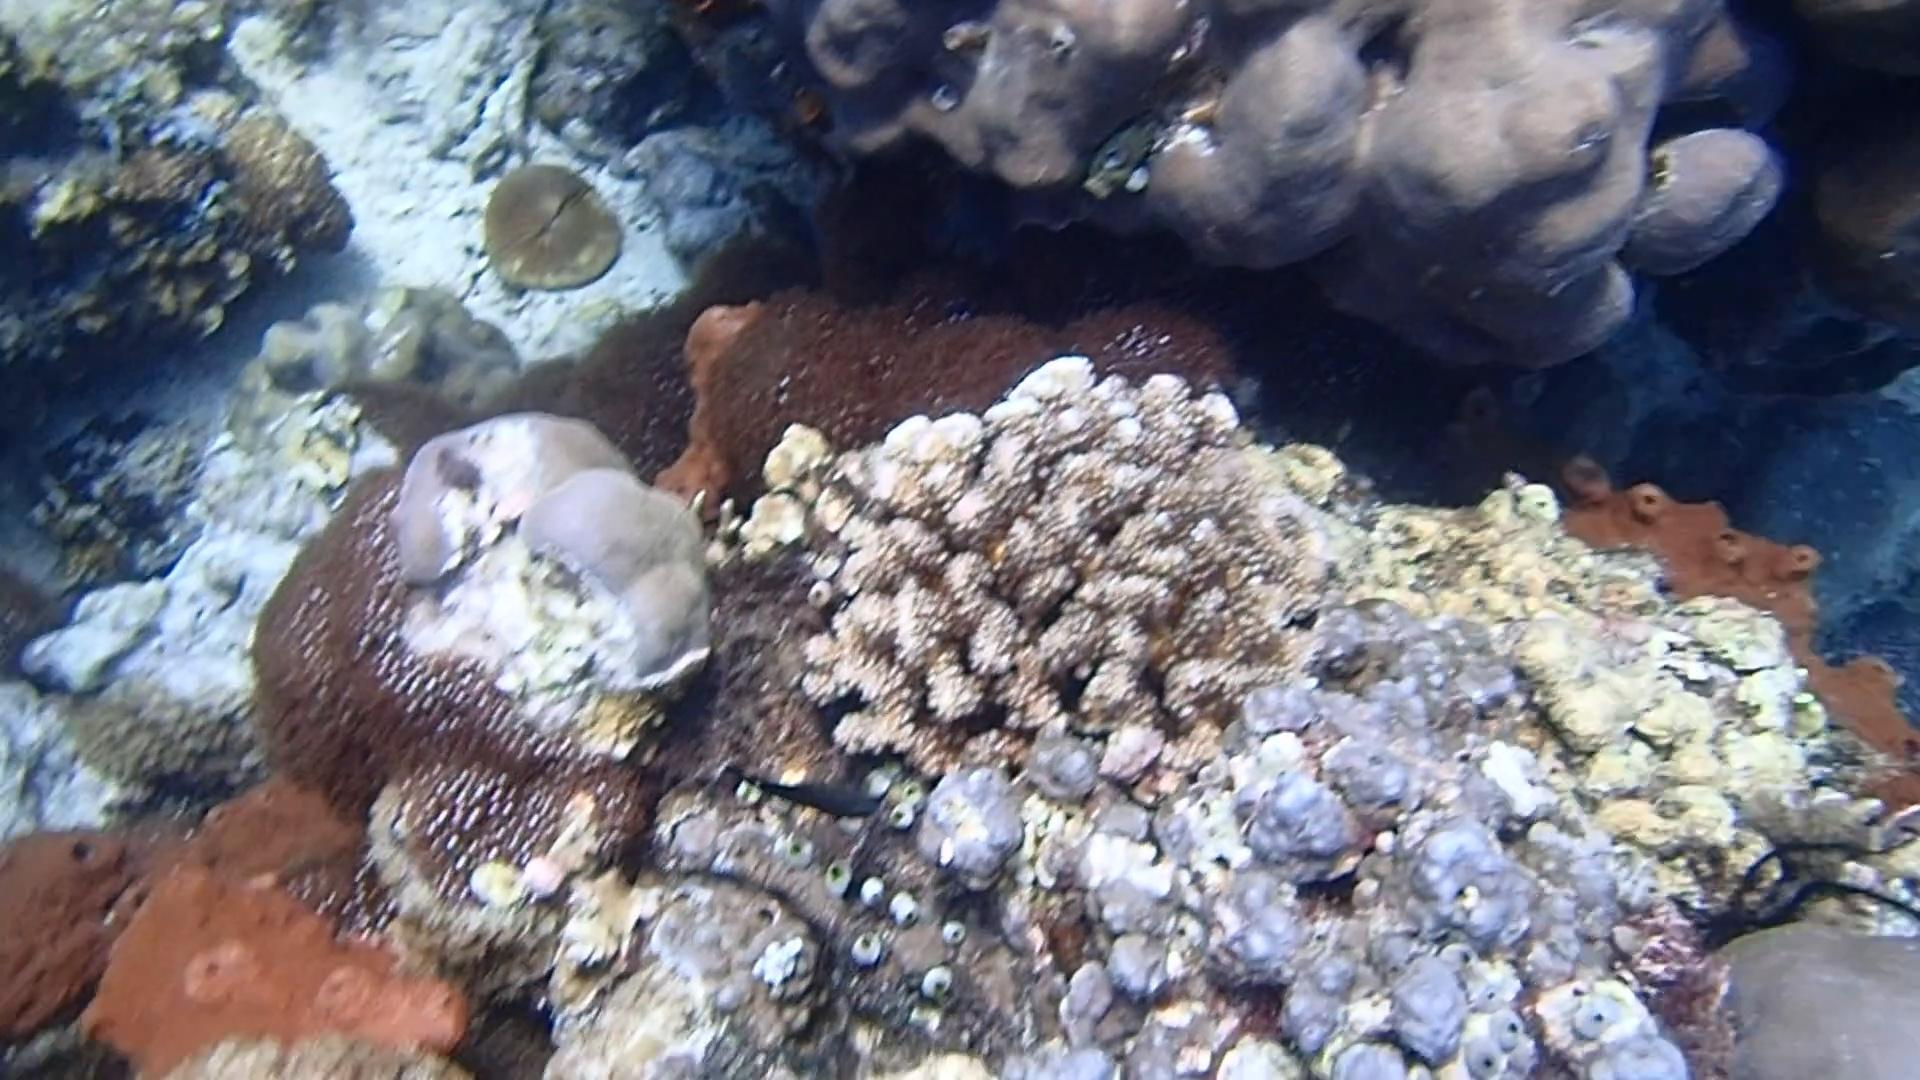Dark Fish: (733, 753, 891, 839)
